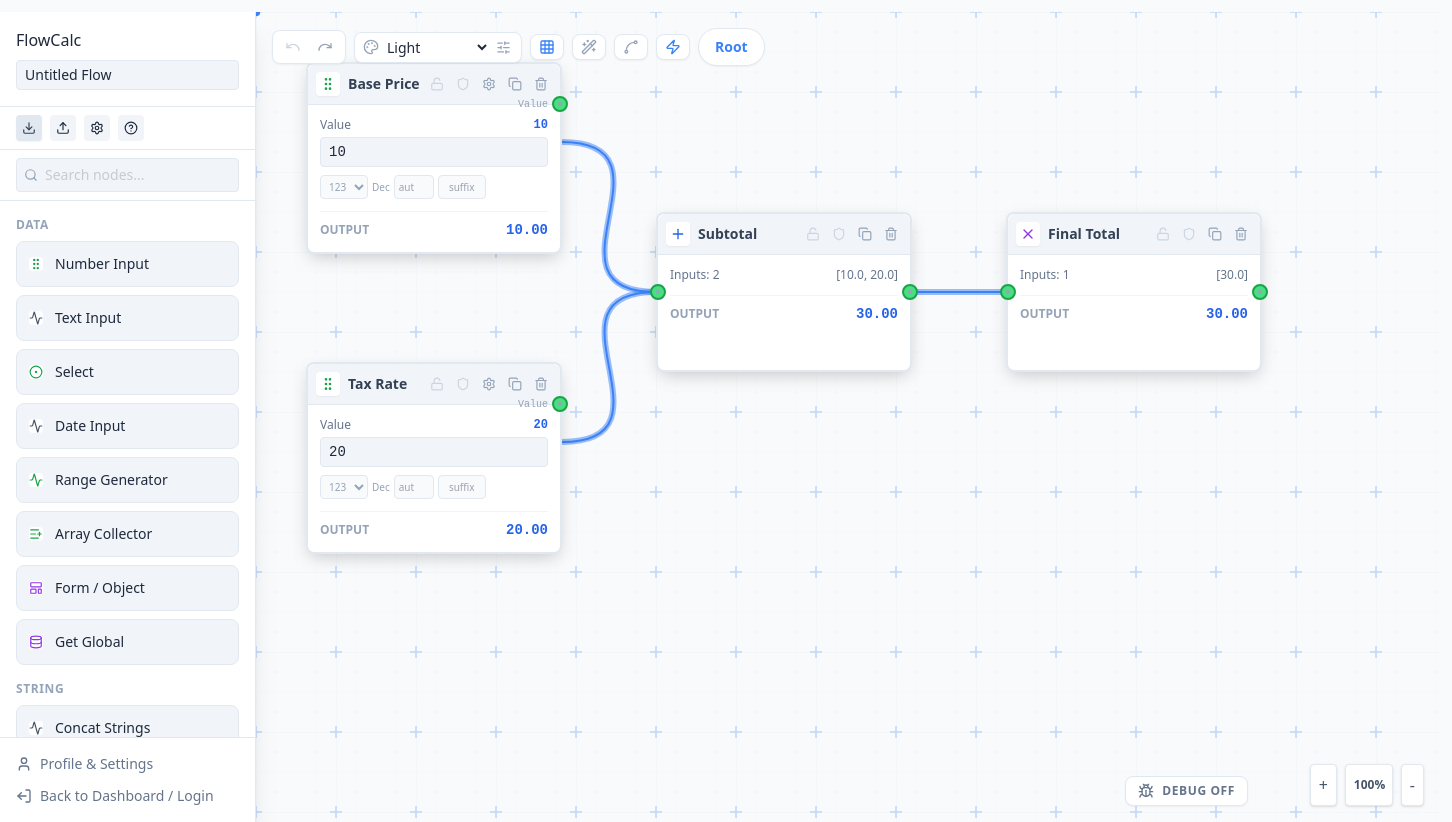
Editor (integration) › duplicating a node adds a copy with the same label
The image size is (1452, 822).
Check: the number of fields showing "Base Price" is 1, box [348,74,426,94]
What coordinates should you click on to do the following:
click the 1st button titled "Duplicate (Ctrl+D)"
I would click on:
 (515, 84)
Its box is [504,73,526,95].
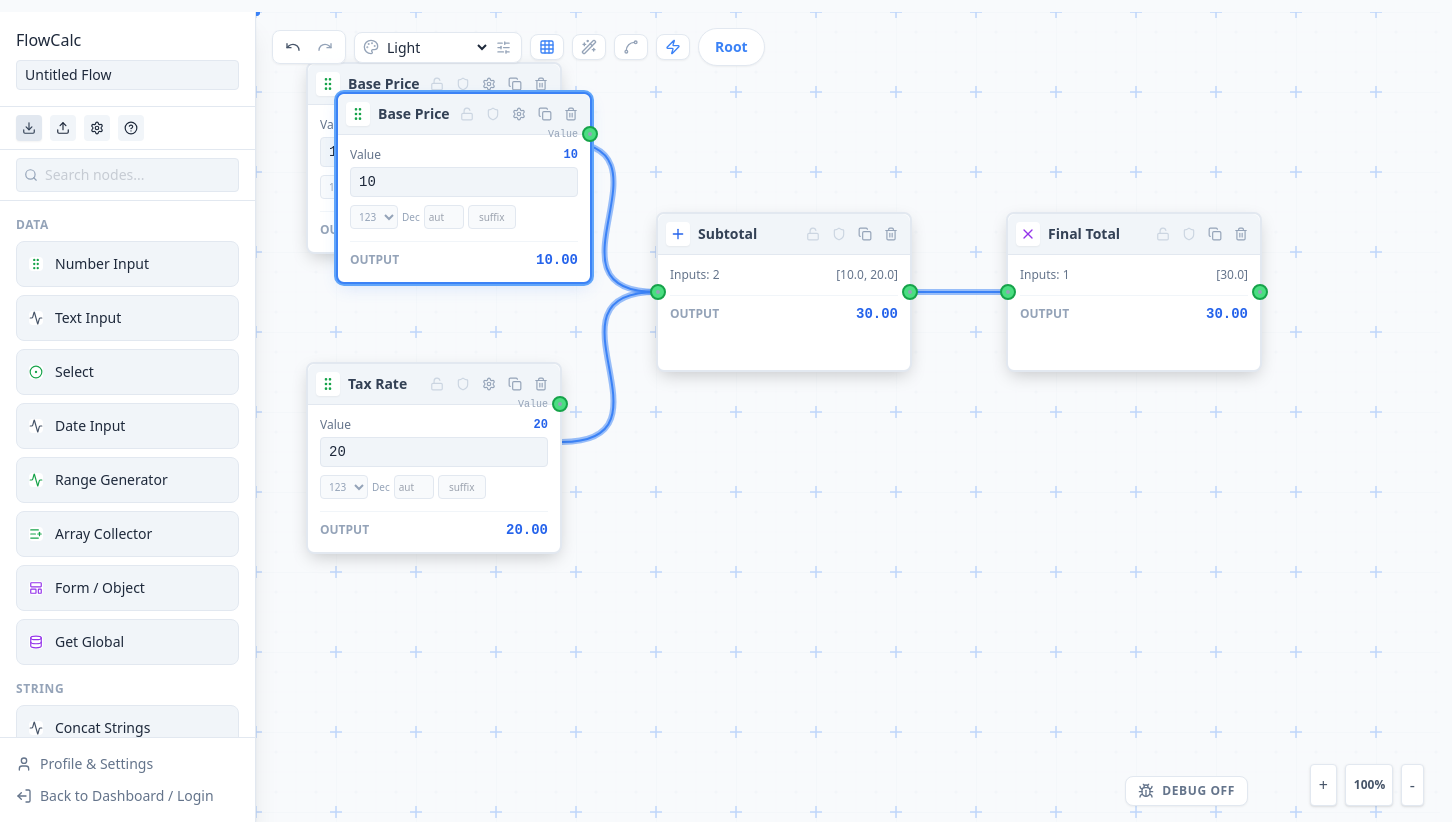
Check: the number of fields showing "Base Price" is 2, box [348,74,426,94]; [378,104,456,124]
